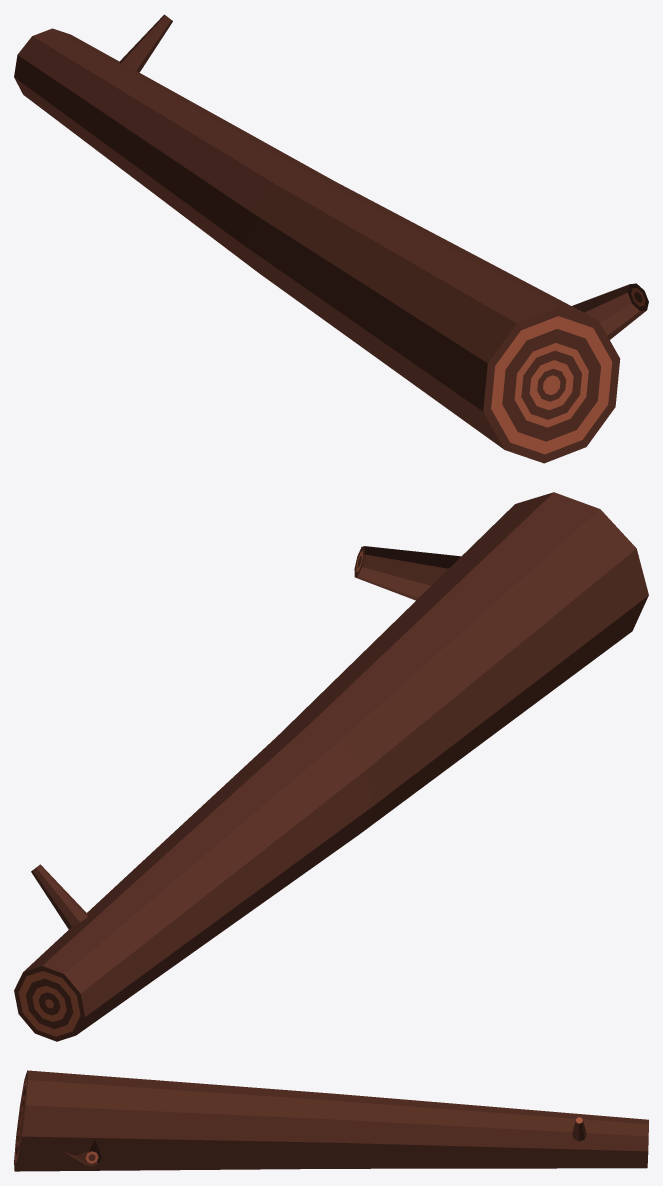
The model's file is ArbreMortTombe.fbx.
3 views of the same model, one above another, from view 1: azimuth 30°, elevation 25°; view 2: azimuth 150°, elevation 25°; view 3: azimuth 270°, elevation 25° (orthographic). The views are drawn at different scales.
Visible parts, largest first — view 1: Cylinder; view 2: Cylinder; view 3: Cylinder.
Boxes of the visible parts, x1=… form: Cylinder: x1=14, y1=14, x2=648, y2=463; Cylinder: x1=14, y1=492, x2=648, y2=1041; Cylinder: x1=14, y1=1070, x2=648, y2=1171.
Size of the model in its own units: 88.92 by 57.54 by 359.
